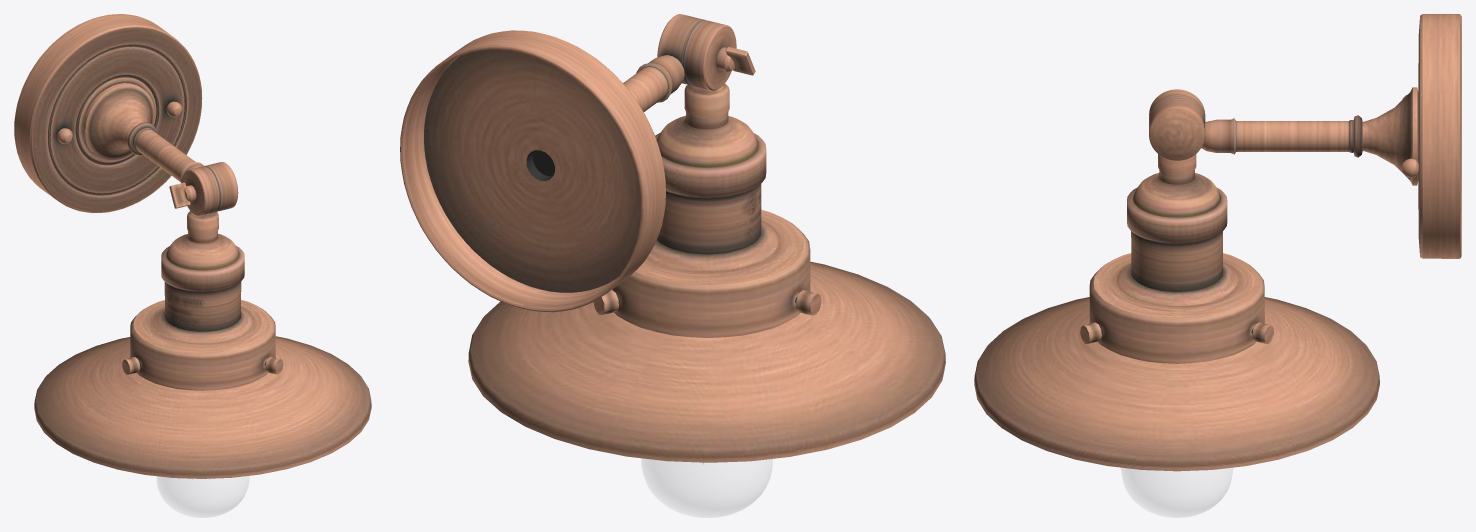
Rendered from AnisotropyBarnLamp.glb.
The picture shows the model from 3 angles, left to right: view 1: azimuth 30°, elevation 25°; view 2: azimuth 150°, elevation 25°; view 3: azimuth 270°, elevation 25°; orthographic projection. The views are drawn at different scales.
Visible parts, largest first — view 1: lamp, lamp glass; view 2: lamp, lamp glass; view 3: lamp, lamp glass.
Boxes of the visible parts, x1,y1,x2,y2 form: lamp: [14, 14, 371, 479]; lamp glass: [157, 476, 249, 517]; lamp: [400, 14, 945, 464]; lamp glass: [641, 458, 772, 517]; lamp: [974, 14, 1461, 471]; lamp glass: [1121, 468, 1232, 517].
Size of the model in its own units: 0.1908 by 0.2552 by 0.2265.
Materials: 3 (1 with a texture image).
